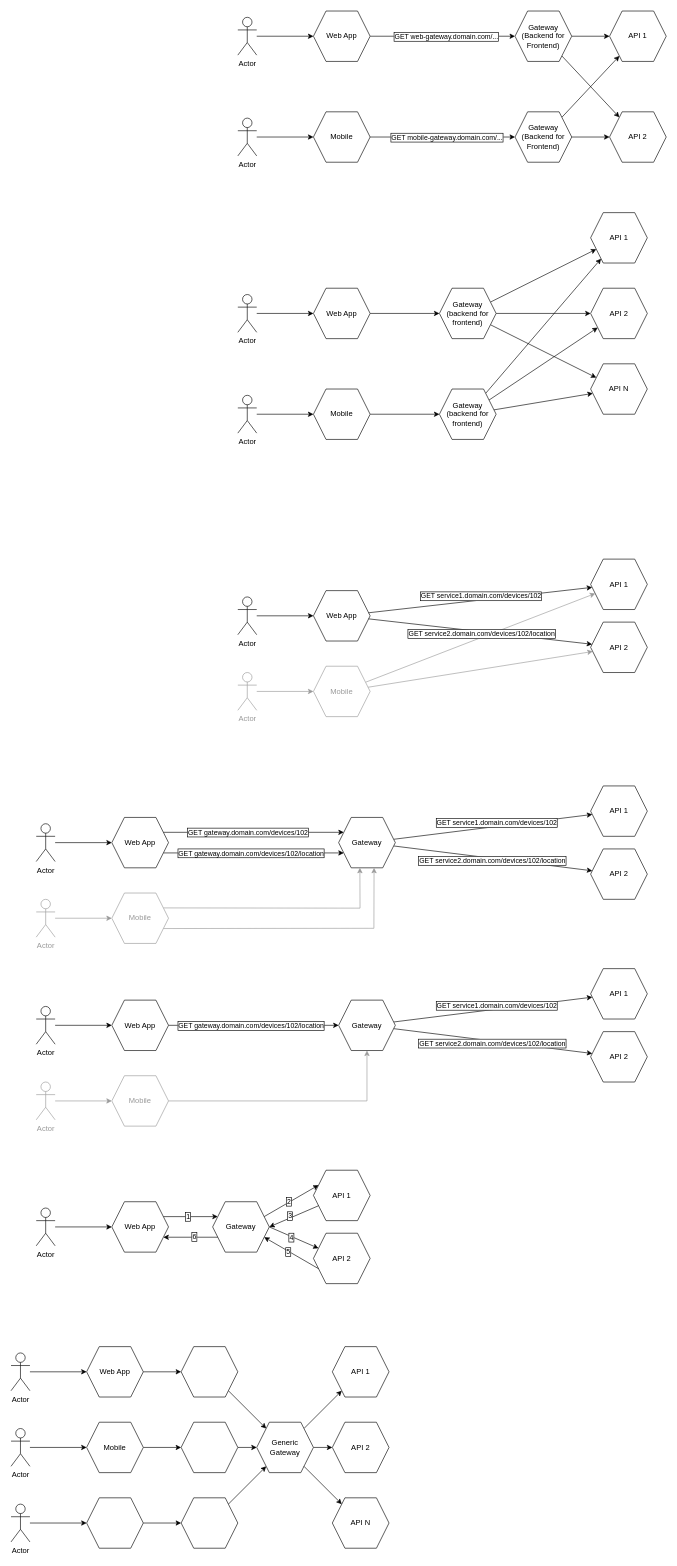
The diagram is 677 pixels wide and 1566 high, and some of its shapes have lost their labels. The shapes that lost their labels are listed below. From the top down, each one's centre as x and y in pixels, then its label:
At point (209, 1371): "Web Gateway".
At point (209, 1447): "Mobile Gateway".
At point (114, 1522): "Other".
At point (209, 1522): "Other Gateway".
